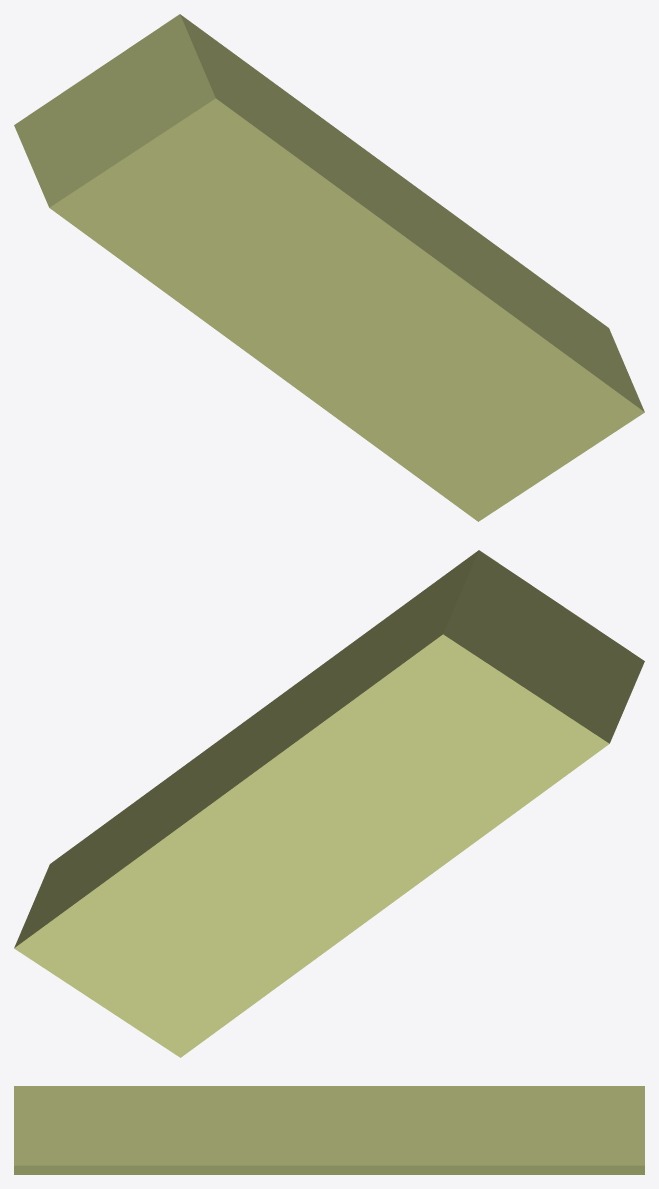
3 renders of one model, top to bottom at view 1: azimuth 30°, elevation 25°; view 2: azimuth 150°, elevation 25°; view 3: azimuth 270°, elevation 25°, orthographic. The views are drawn at different scales.
Parts seen in each view (by area): view 1: 0_2_3_2_1_1_1_2_1_1_1; view 2: 0_2_3_2_1_1_1_2_1_1_1; view 3: 0_2_3_2_1_1_1_2_1_1_1.
Boxes of the visible parts, left/top/right/bottom form: 0_2_3_2_1_1_1_2_1_1_1: left=14, top=14, right=644, bottom=521; 0_2_3_2_1_1_1_2_1_1_1: left=14, top=550, right=644, bottom=1057; 0_2_3_2_1_1_1_2_1_1_1: left=14, top=1086, right=644, bottom=1174.
Size of the model in its own units: 2.44 by 1.87 by 9.
